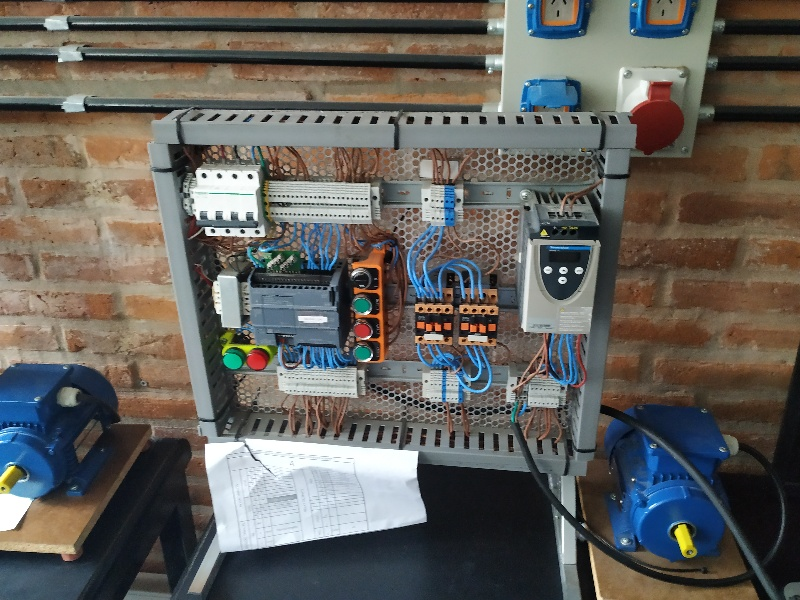Tablero 4: (178, 135, 601, 436)
